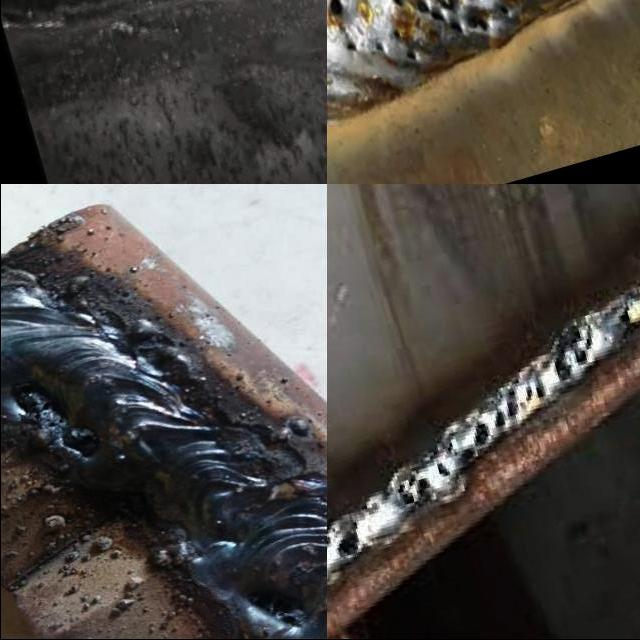defect: (9, 378, 99, 454), (236, 590, 310, 632), (549, 322, 594, 385), (491, 382, 547, 432), (391, 461, 434, 515), (458, 419, 496, 468), (335, 515, 363, 560), (326, 0, 355, 25), (616, 299, 634, 328), (433, 458, 452, 482), (342, 34, 358, 59), (403, 48, 417, 63), (373, 39, 384, 56), (391, 28, 401, 43)
